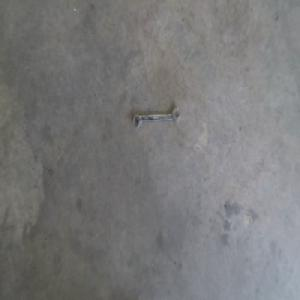Wrench: (132, 107, 180, 129)
